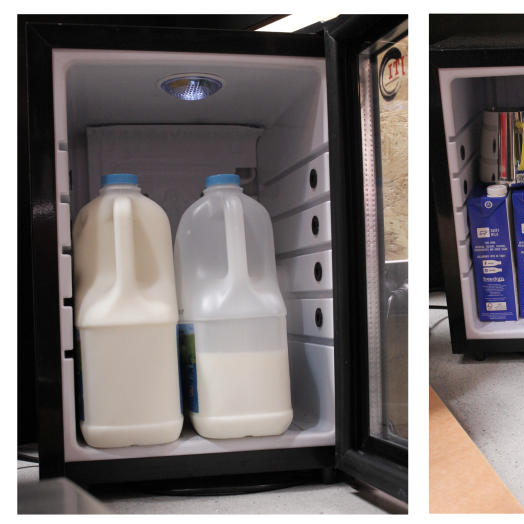milk: (72, 173, 293, 447)
